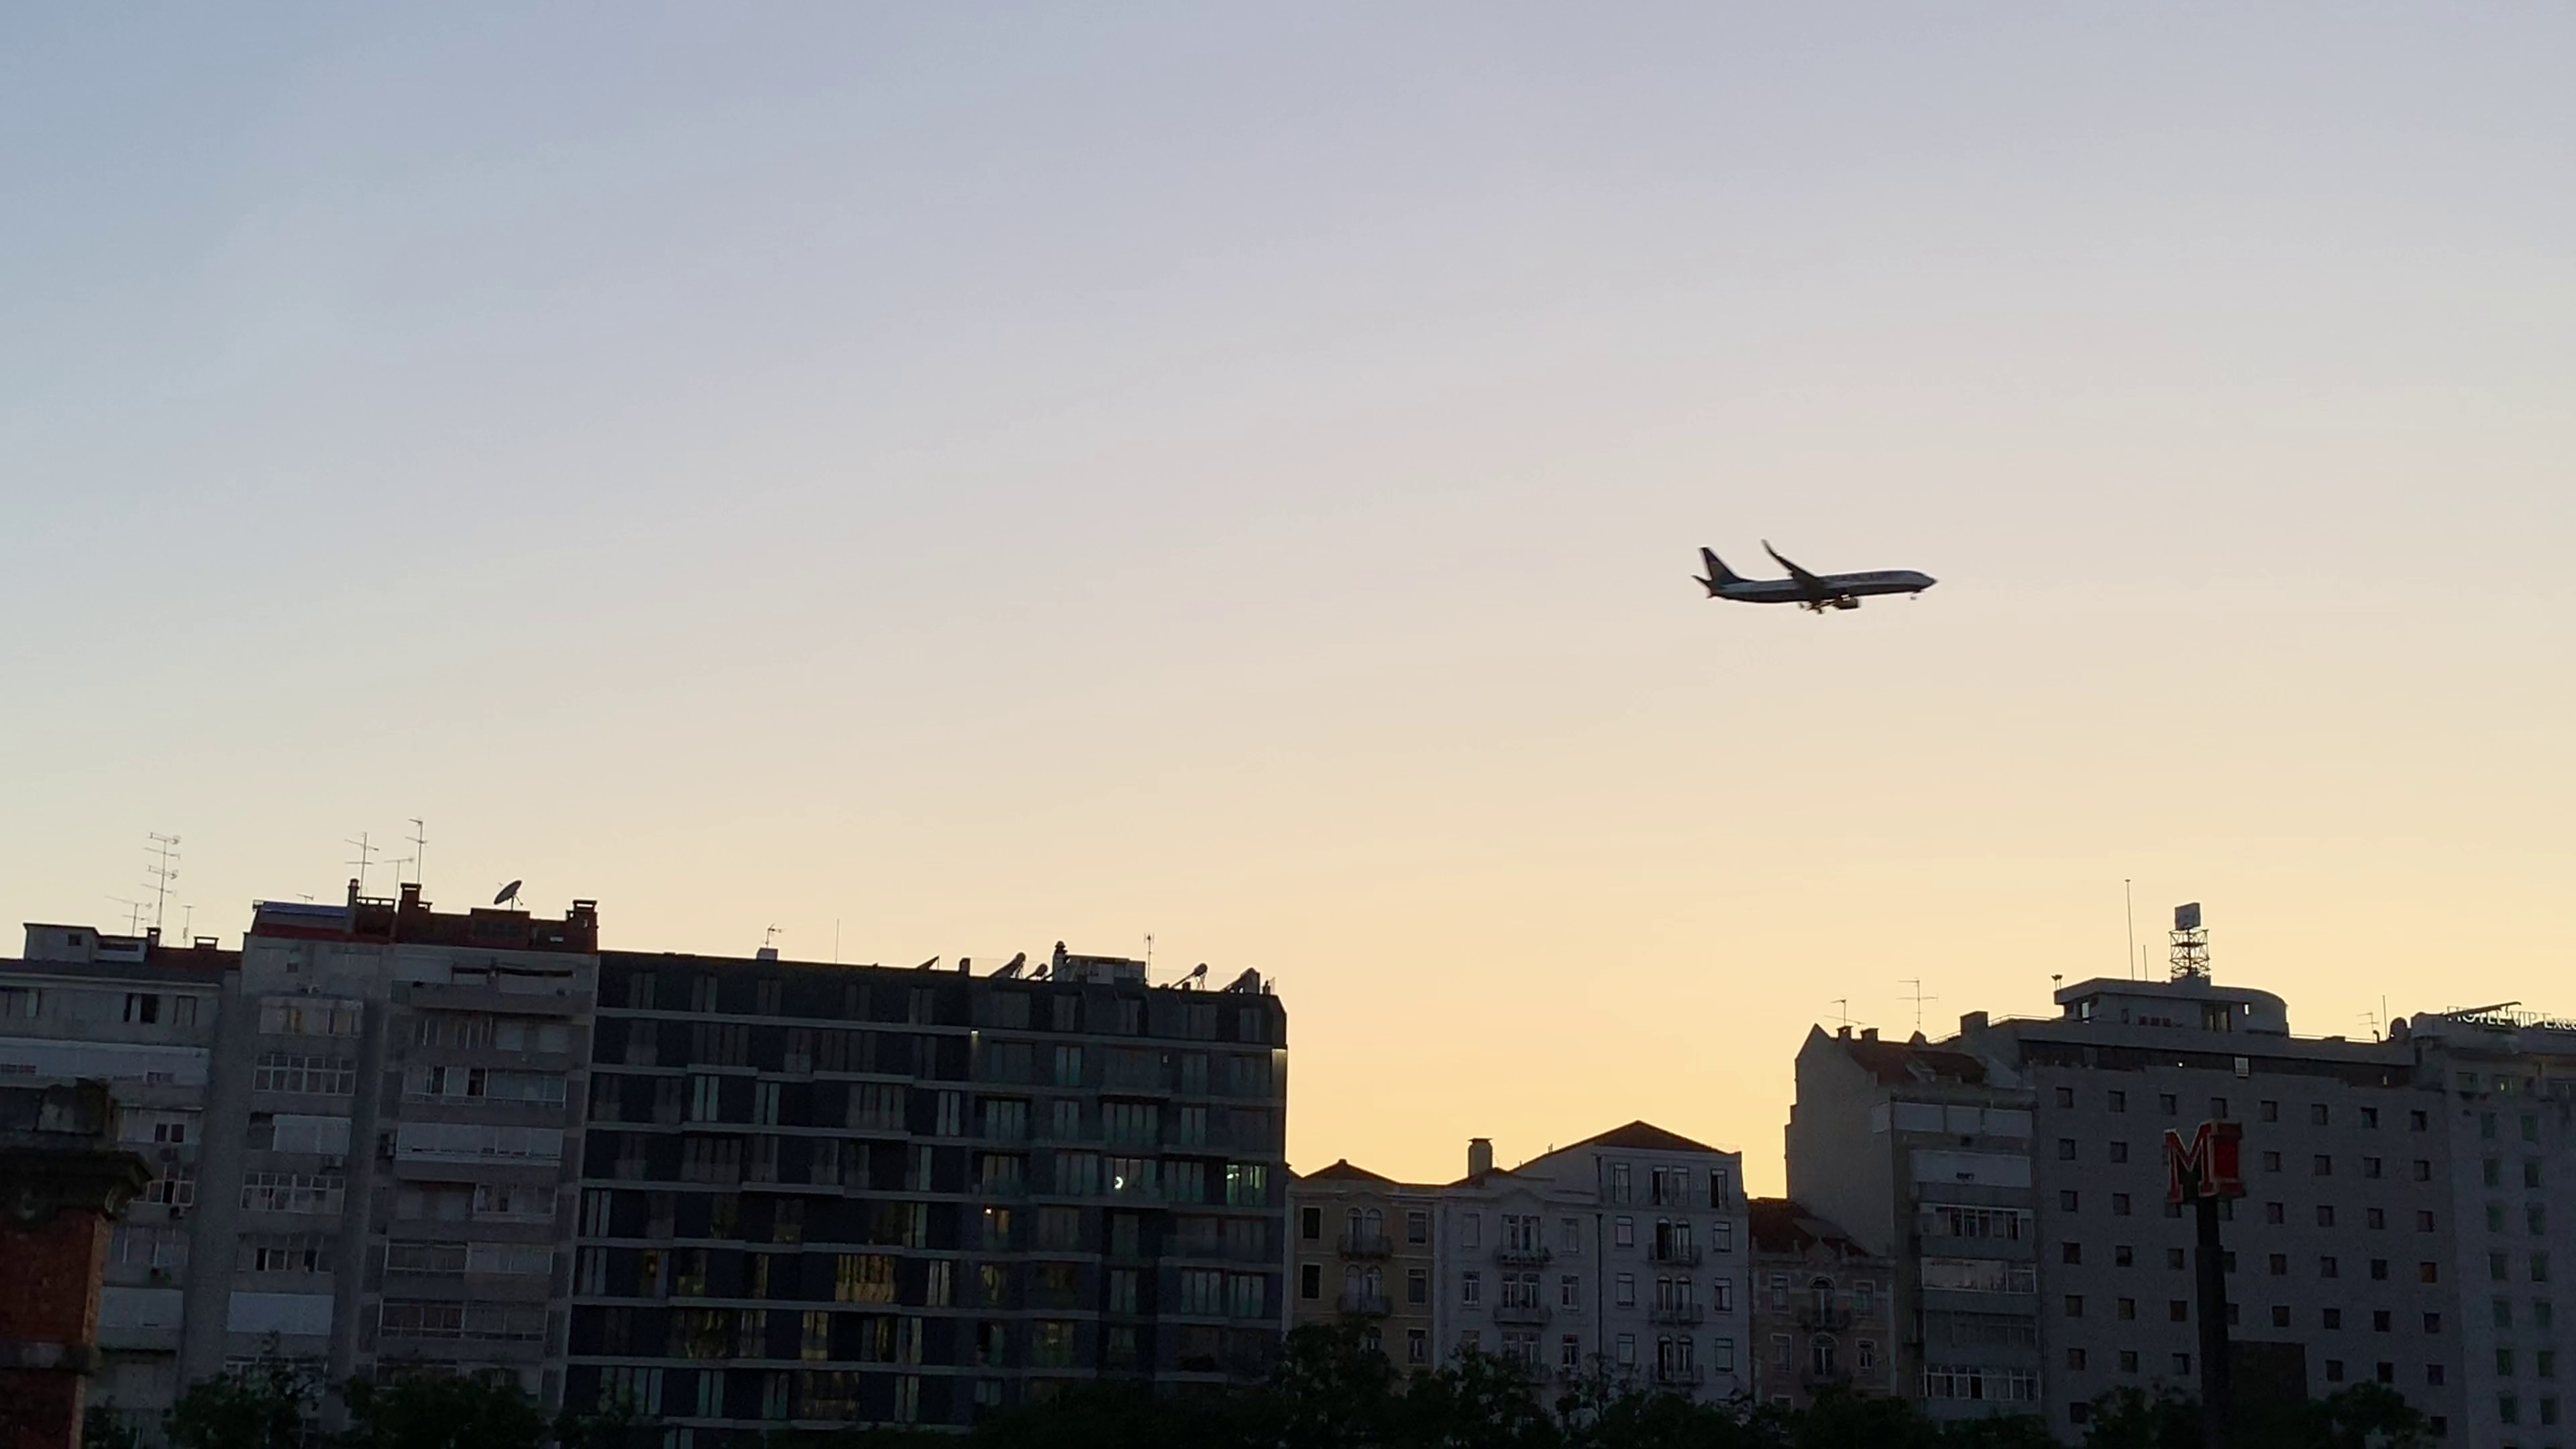plane: (1695, 536, 1939, 616)
